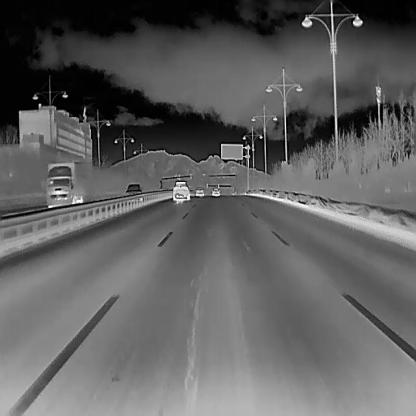car: (172, 180, 190, 200), (123, 181, 142, 195), (194, 186, 204, 197), (210, 186, 220, 196)
truck: (46, 162, 80, 207)
